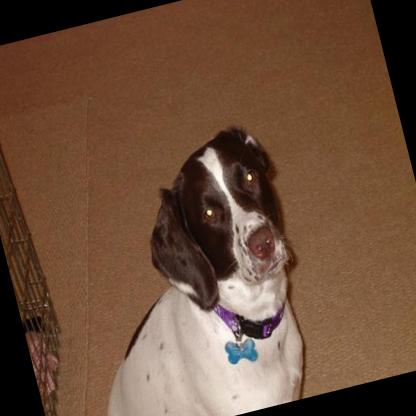English_springer: (35, 115, 333, 416)
